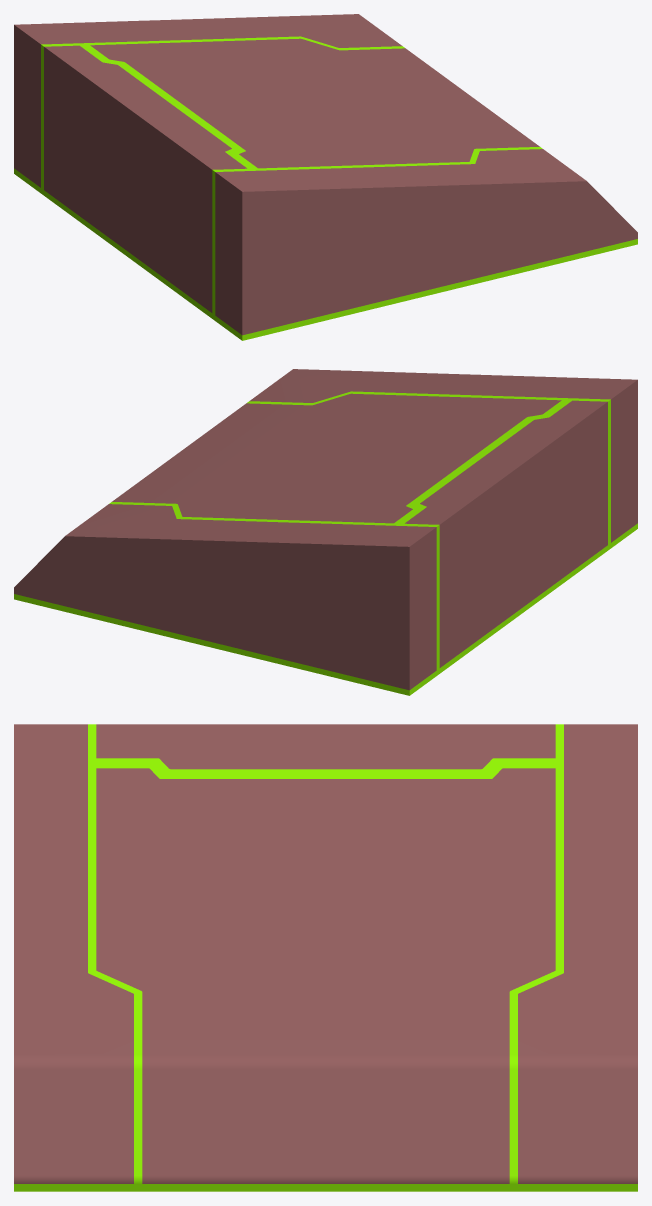
Rendered from Building_Roof_02a_snaps016.fbx.
3 renders of one model, top to bottom at view 1: azimuth 30°, elevation 25°; view 2: azimuth 150°, elevation 25°; view 3: azimuth 270°, elevation 25°, orthographic. The views are drawn at different scales.
Visible parts, largest first — view 1: Building_Roof_02a_snaps016_LOD0; view 2: Building_Roof_02a_snaps016_LOD0; view 3: Building_Roof_02a_snaps016_LOD0.
Boxes of the visible parts, <box> form: Building_Roof_02a_snaps016_LOD0: <box>14,14,637,340</box>; Building_Roof_02a_snaps016_LOD0: <box>14,369,637,695</box>; Building_Roof_02a_snaps016_LOD0: <box>14,724,637,1191</box>.
Size of what is drawn, in the model's own units: 3 by 1.08 by 3.
